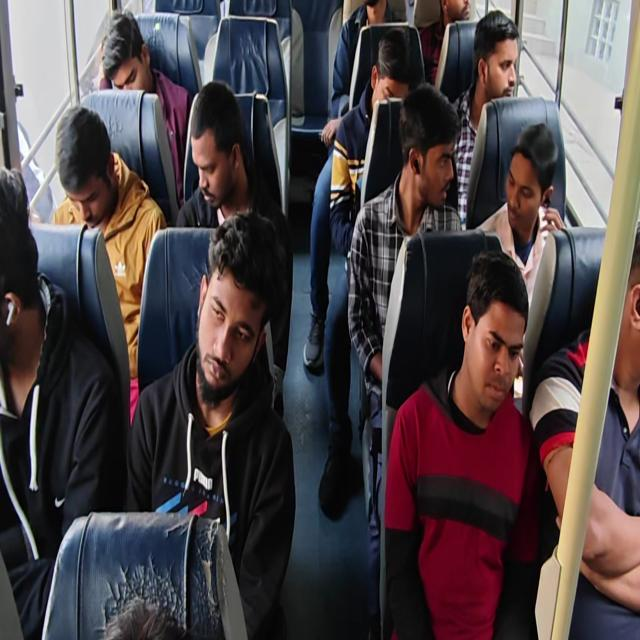person: (196, 215, 281, 418), (460, 260, 522, 411), (0, 171, 48, 359), (58, 112, 128, 230), (602, 238, 640, 397), (405, 98, 454, 213), (500, 134, 553, 237), (475, 16, 527, 112), (100, 18, 154, 108), (368, 38, 420, 128), (185, 90, 232, 189), (342, 0, 413, 43), (431, 0, 477, 38)
